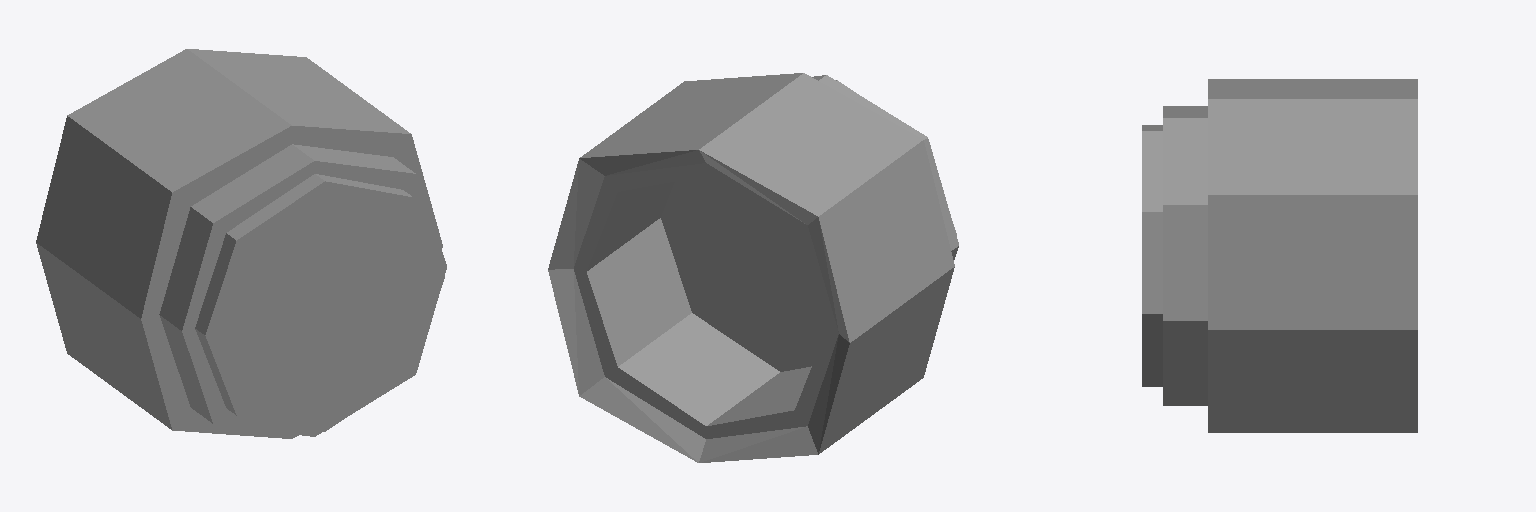
Rendered from EngineBack03.obj.
The picture shows the model from 3 angles: view 1: azimuth 30°, elevation 25°; view 2: azimuth 150°, elevation 25°; view 3: azimuth 270°, elevation 25°; orthographic projection.
Parts seen in each view (by area): view 1: EngineBack03_Cube.005; view 2: EngineBack03_Cube.005; view 3: EngineBack03_Cube.005.
Part boxes in pixels (x1,y1,x2,y2): EngineBack03_Cube.005: (36,49,446,438); EngineBack03_Cube.005: (548,73,958,462); EngineBack03_Cube.005: (1142,79,1417,432).
Size of the model in its own units: 1.2 by 1.19 by 0.9513.